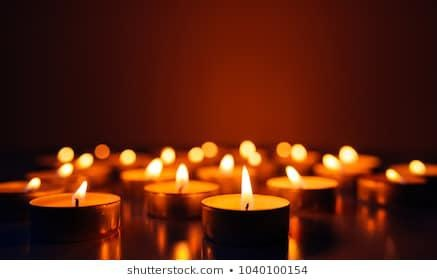fire: (238, 165, 253, 203), (174, 160, 190, 190)
